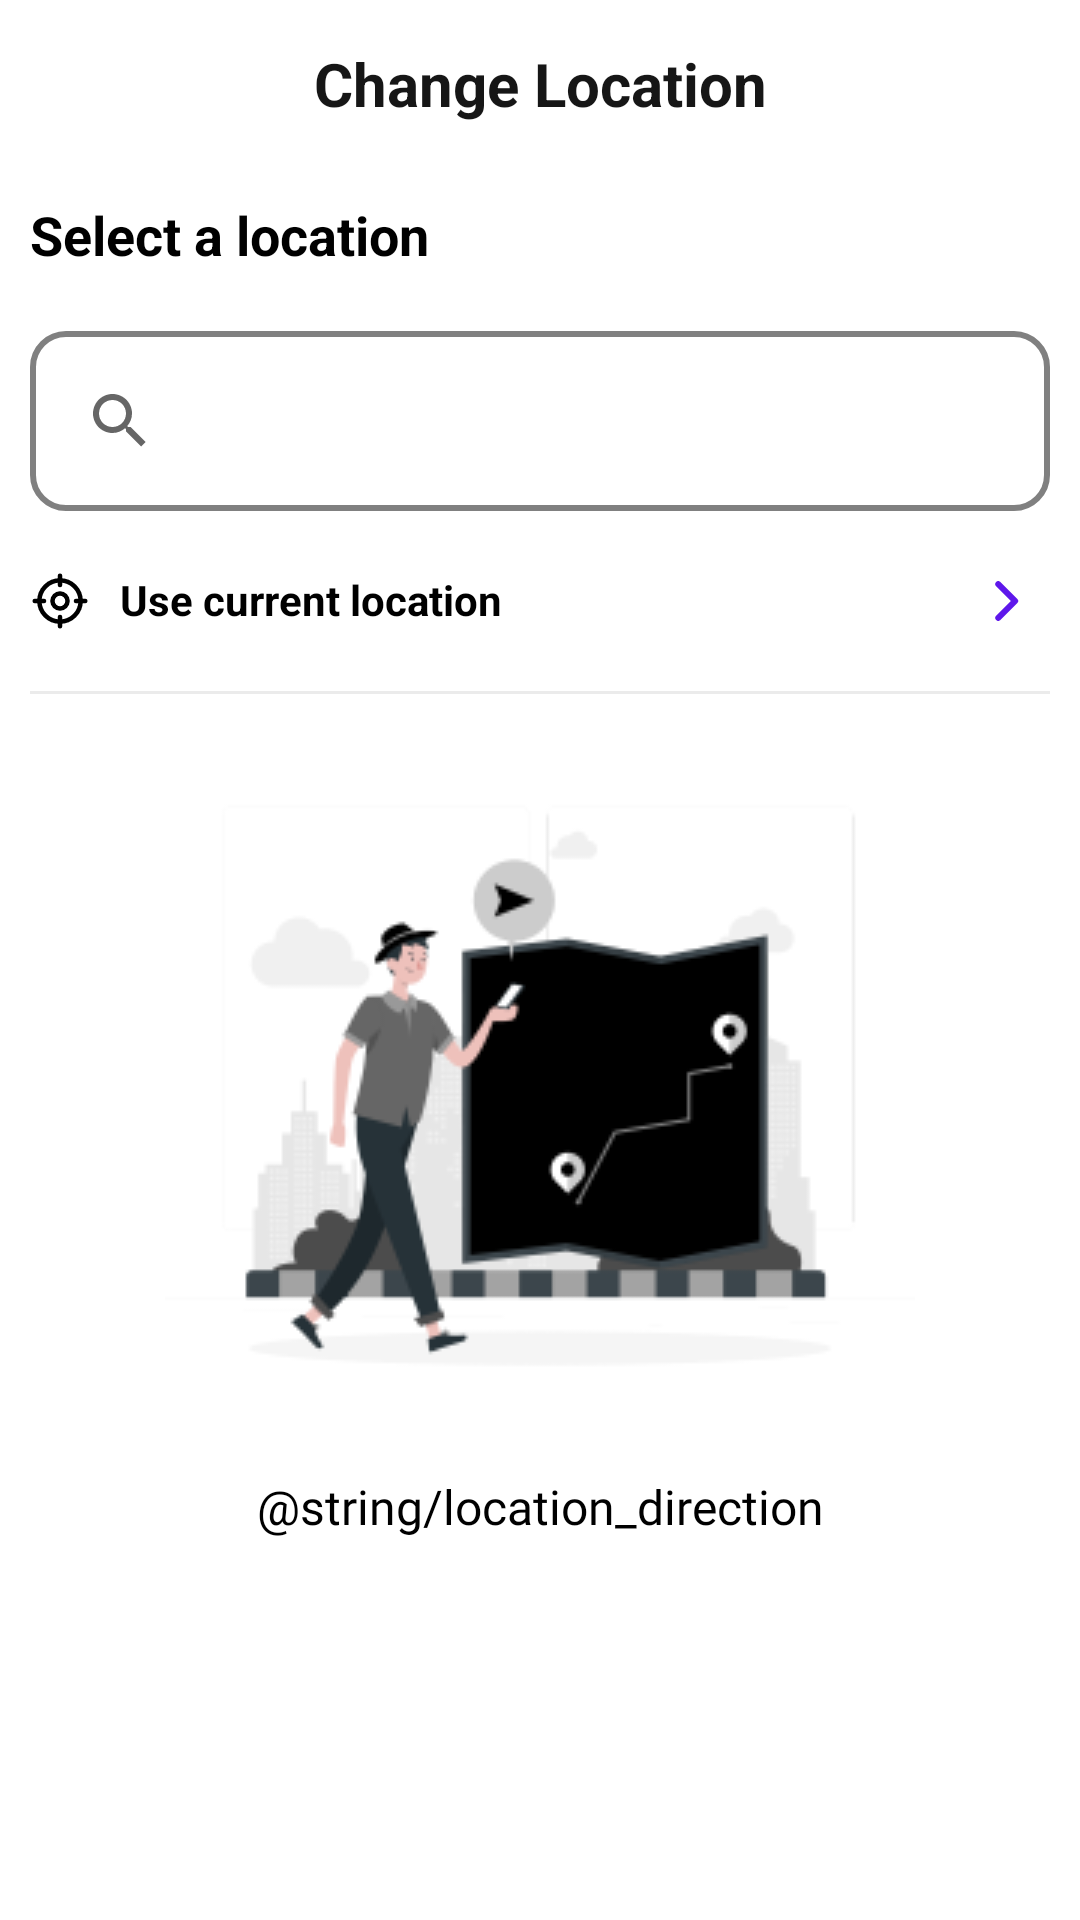

Named icons in this screenshot (1080 × 1920) and their bounding boxes, (x1, y1, x2, y2):
right arrow: (995, 581, 1019, 621)
